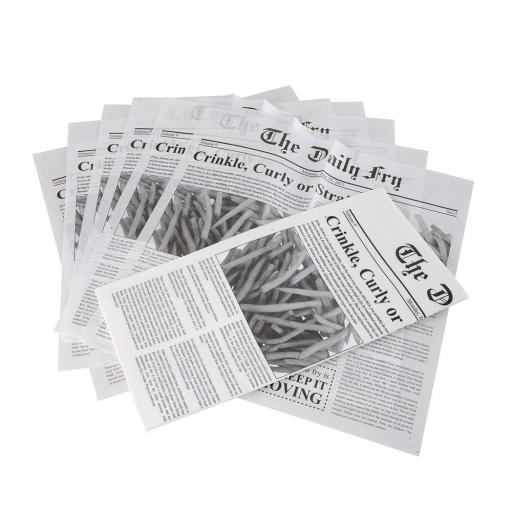paper: (33, 86, 476, 457)
